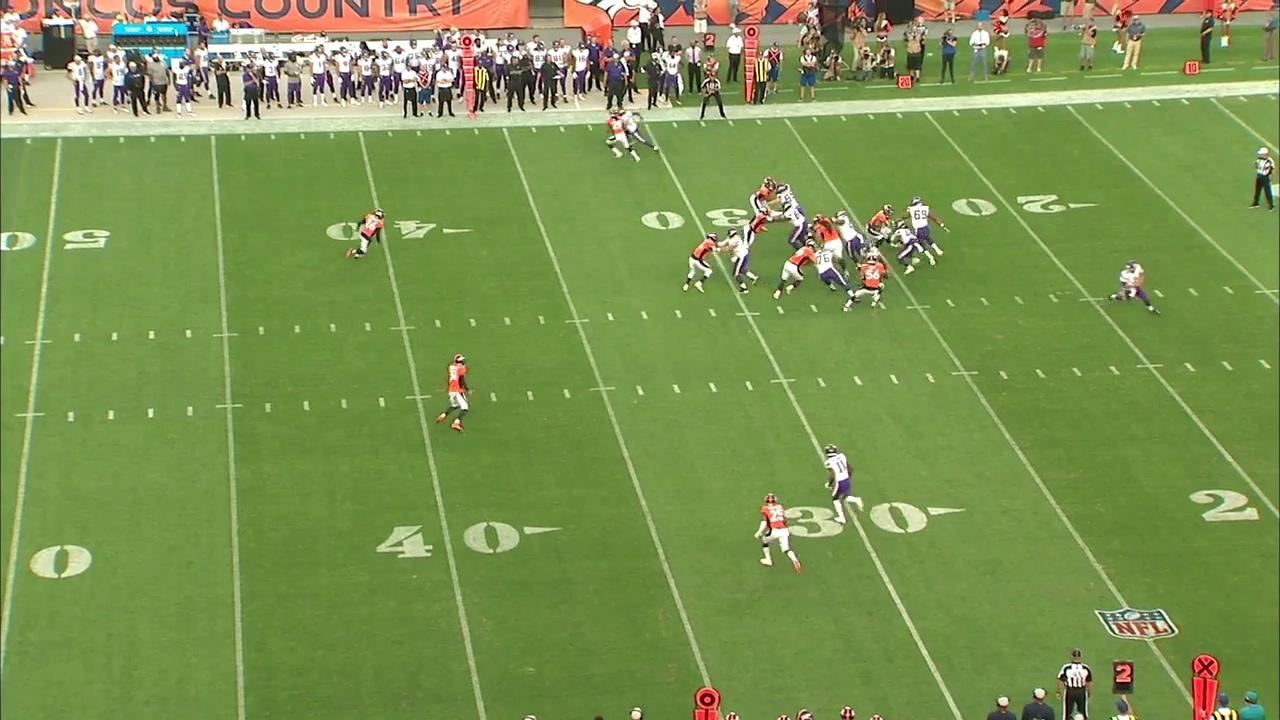five_hash: (211, 330, 242, 340), (12, 412, 49, 420), (587, 385, 616, 394), (768, 377, 799, 385), (1135, 361, 1164, 369), (735, 310, 762, 318), (564, 317, 590, 325), (389, 325, 418, 332), (25, 339, 53, 346), (215, 403, 246, 409), (404, 394, 435, 400), (902, 305, 932, 311), (951, 370, 979, 376), (1076, 297, 1106, 302), (1253, 289, 1280, 294)
hash: (741, 377, 758, 396), (1066, 364, 1086, 380), (994, 366, 1011, 384), (1032, 366, 1052, 381), (1256, 355, 1273, 372), (102, 407, 120, 423), (63, 409, 79, 427), (325, 320, 341, 337), (534, 313, 550, 330), (522, 388, 539, 404), (374, 393, 390, 410), (1179, 360, 1198, 374), (774, 302, 790, 318), (887, 372, 903, 388), (298, 397, 314, 413), (143, 406, 159, 422), (107, 329, 123, 344), (180, 326, 196, 341), (486, 391, 502, 406), (1150, 287, 1167, 301), (1105, 363, 1122, 377), (922, 371, 939, 385), (144, 328, 159, 343), (291, 323, 306, 338), (430, 317, 446, 331), (499, 314, 515, 328), (704, 380, 720, 394), (338, 396, 352, 412), (262, 399, 275, 416), (667, 382, 685, 394), (361, 320, 375, 335), (465, 317, 480, 331), (602, 309, 617, 323), (1221, 359, 1236, 373), (851, 374, 865, 389), (943, 296, 959, 309), (1185, 286, 1201, 299), (1221, 284, 1237, 297), (632, 384, 648, 397), (559, 387, 575, 400), (671, 307, 685, 321), (807, 302, 821, 316), (253, 325, 268, 338), (1046, 292, 1061, 305), (814, 377, 829, 390), (183, 404, 196, 419), (639, 309, 652, 323), (706, 306, 720, 319), (1011, 294, 1025, 307), (977, 295, 991, 307), (71, 331, 82, 345)
marker: (1190, 655, 1220, 720), (460, 34, 478, 120), (744, 25, 758, 105)
number: (374, 513, 573, 570), (782, 503, 969, 540), (0, 221, 119, 266), (948, 191, 1101, 223), (630, 207, 755, 232)
